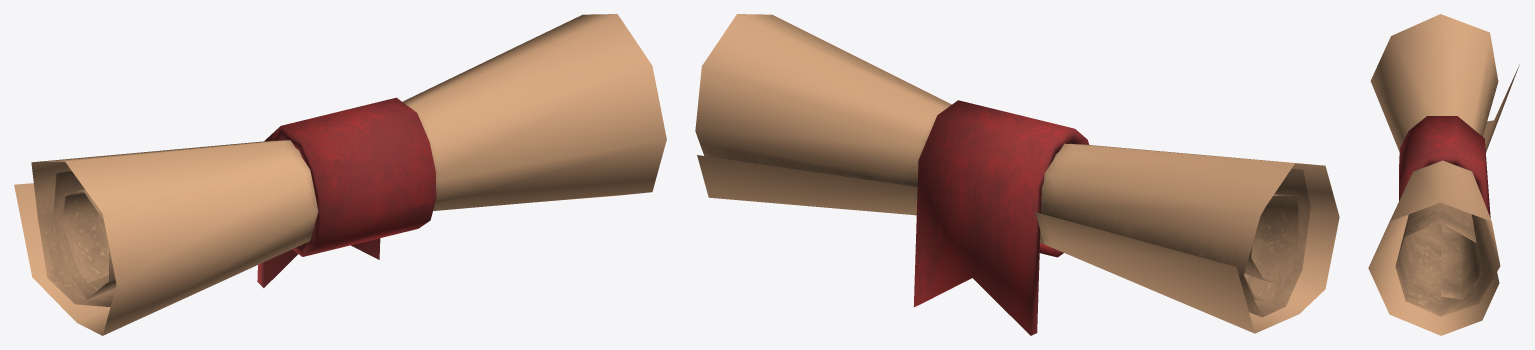
File: scroll_2.fbx
The picture shows the model from 3 angles, left to right: view 1: azimuth 30°, elevation 25°; view 2: azimuth 150°, elevation 25°; view 3: azimuth 270°, elevation 25°; orthographic projection. The views are drawn at different scales.
Parts seen in each view (by area): view 1: Cylinder.013; view 2: Cylinder.013; view 3: Cylinder.013.
Part boxes in pixels (x1=…): Cylinder.013: x1=14, y1=14, x2=666, y2=335; Cylinder.013: x1=695, y1=14, x2=1339, y2=335; Cylinder.013: x1=1368, y1=14, x2=1519, y2=335.
Bounding box in the file's own units: 879 × 328 × 286.
